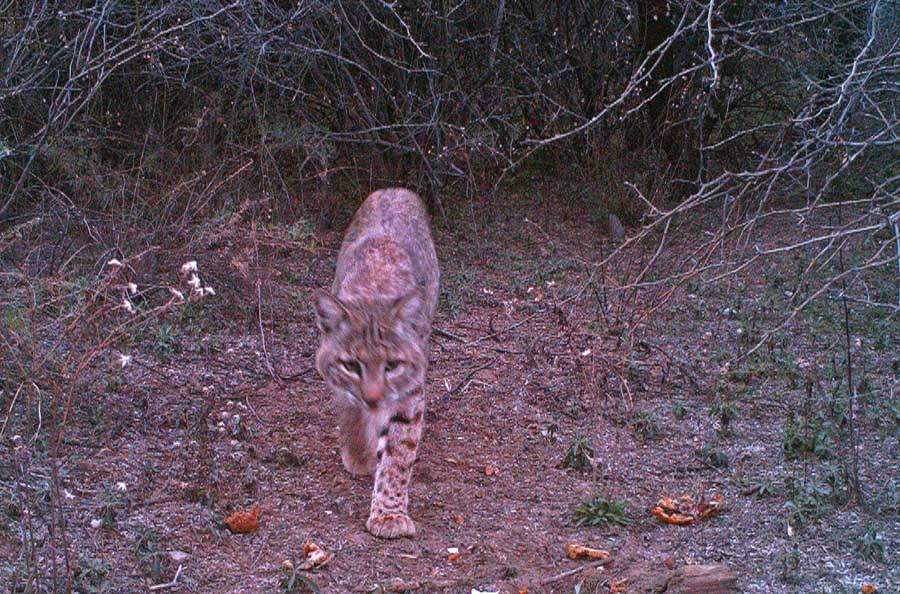bobcat: (295, 171, 455, 561)
